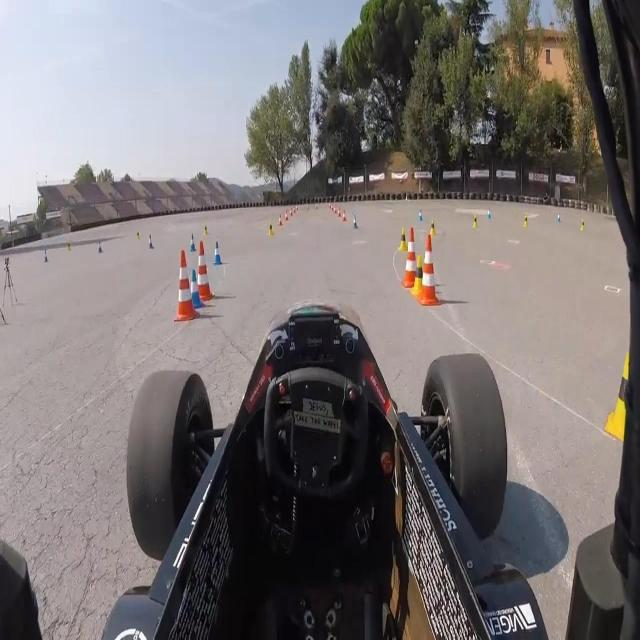blue_cone: (188, 269, 204, 310), (214, 238, 224, 265), (187, 232, 197, 253), (95, 238, 104, 255), (352, 213, 359, 230), (147, 233, 154, 250), (555, 210, 561, 224), (418, 209, 424, 222), (487, 208, 492, 221)
large_orange_cone: (171, 246, 200, 324), (417, 230, 443, 309), (197, 240, 214, 303), (403, 227, 419, 289)
orange_cone: (278, 214, 284, 227), (342, 210, 348, 222), (284, 210, 290, 222), (338, 207, 342, 218), (289, 207, 293, 217), (334, 206, 337, 215), (293, 206, 296, 214), (331, 205, 334, 212)
yellow_cone: (603, 339, 634, 444), (411, 253, 424, 297), (398, 223, 408, 252), (266, 220, 276, 240), (429, 218, 436, 236), (580, 215, 586, 232), (472, 212, 478, 228), (522, 213, 528, 228), (203, 220, 208, 236)
